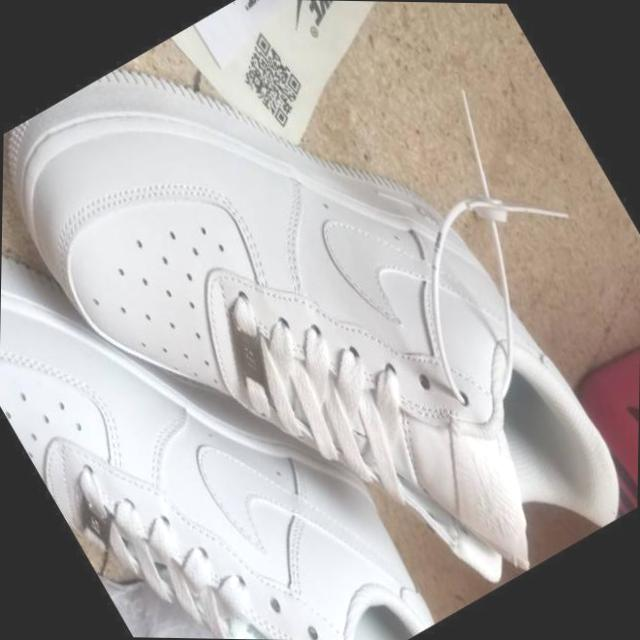nike_fake_airforce: (0, 0, 640, 640), (0, 74, 455, 640)
